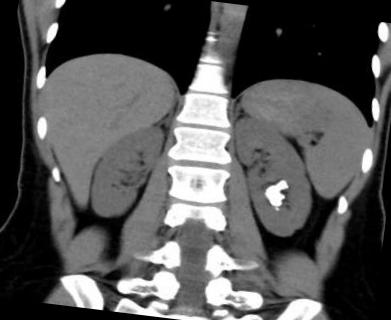Tas_Var: (261, 177, 294, 208), (272, 206, 282, 212)
